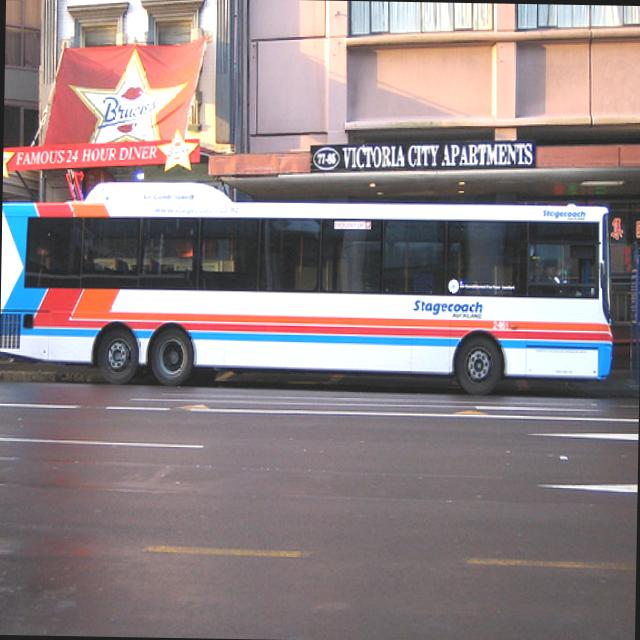Vehicle: (0, 173, 614, 399)
